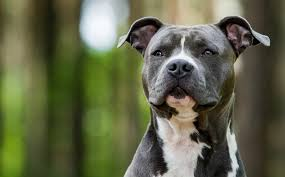Perro Pitbull: (104, 12, 277, 154)
